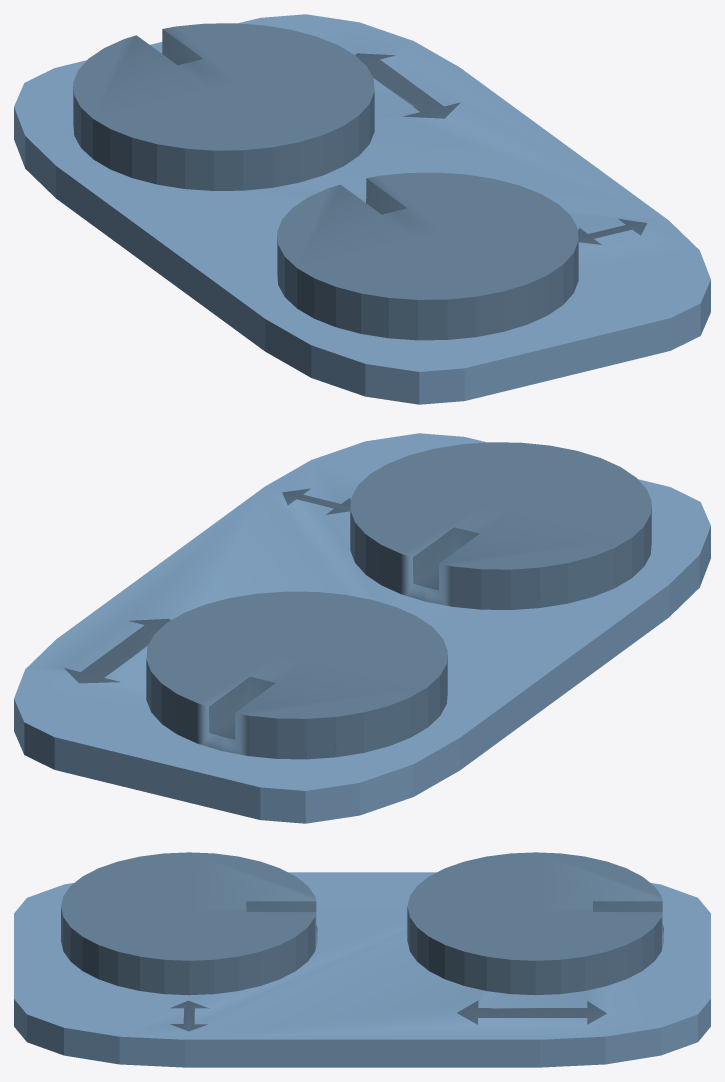
Rendered from Regler.fbx.
3 views of the same model, one above another, from view 1: azimuth 30°, elevation 25°; view 2: azimuth 150°, elevation 25°; view 3: azimuth 270°, elevation 25° (orthographic). The views are drawn at different scales.
Visible parts, largest first — view 1: Baseplate, Button 1, Button 2; view 2: Baseplate, Button 2, Button 1; view 3: Baseplate, Button 1, Button 2.
Part boxes in pixels (x1,y1,x2,y2): Baseplate: (14, 14, 710, 404); Button 1: (277, 172, 578, 340); Button 2: (73, 23, 374, 190); Baseplate: (14, 433, 710, 823); Button 2: (146, 591, 447, 759); Button 1: (350, 442, 651, 609); Baseplate: (14, 872, 710, 1067); Button 1: (61, 852, 317, 995); Button 2: (407, 852, 663, 995).
Size of the model in its own units: 28.18 by 4.88 by 49.61.
